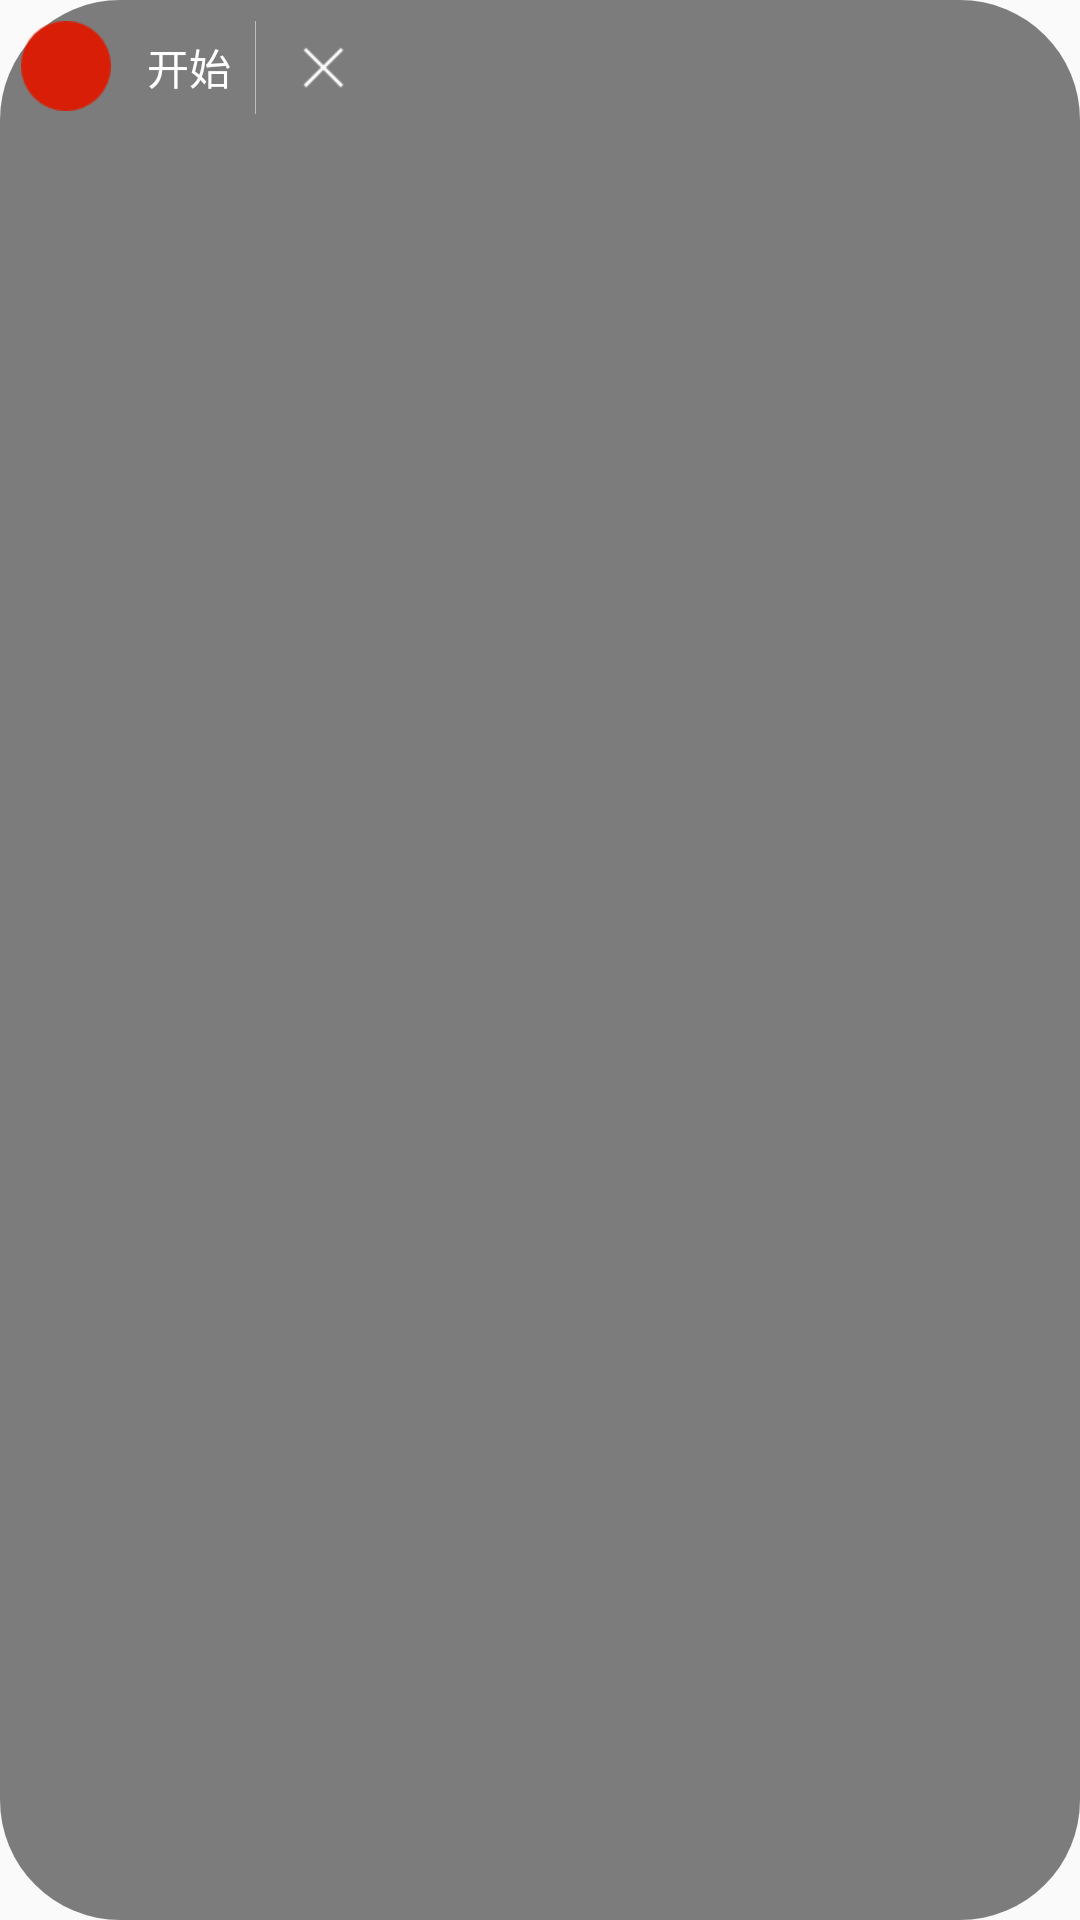

Icon click points for this 1080px×1920px phone screenshot, format [x,y]:
record video close: [323,67]
record video start: [66,66]
